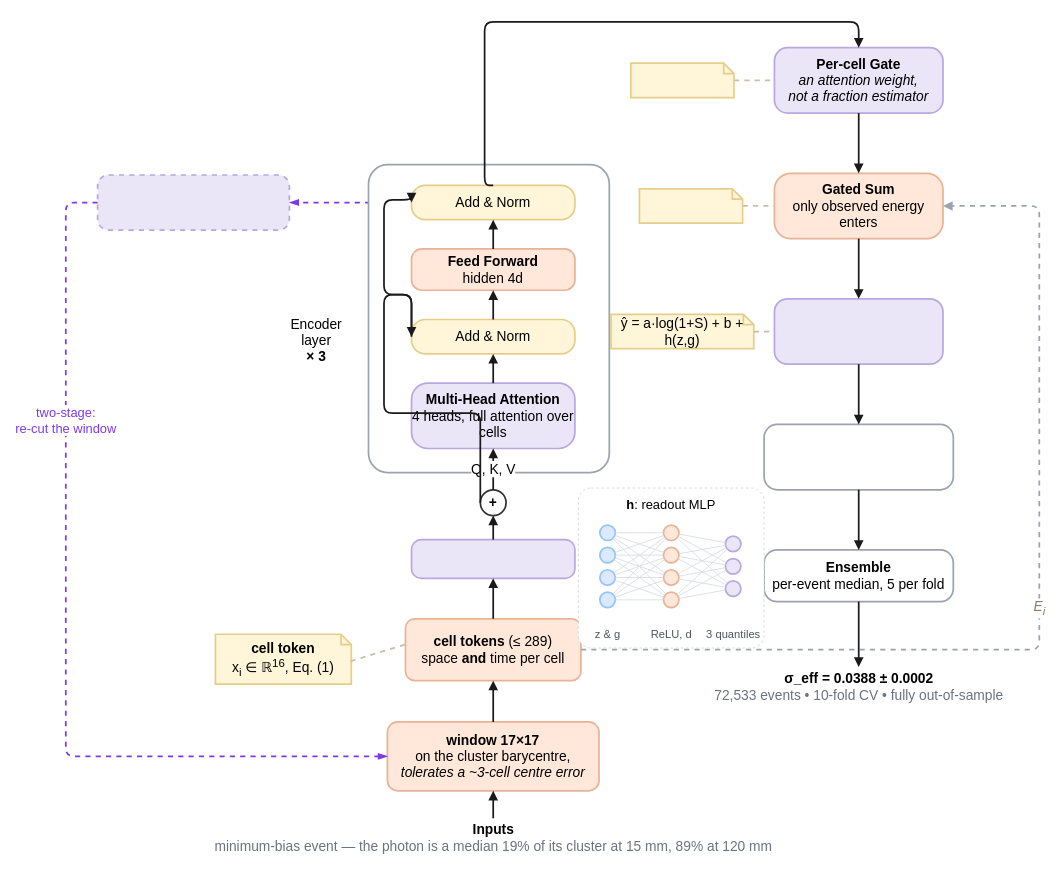
This 1061x871 diagram has some shape labels left out. The shapes that lost their labels are listed below. From the top down, each one's centre as x and y in pixels, then its label:
At (682,80): "σ(f i ) ∈ (0, 1)".
At (193,202): "position head (auxiliary) photon offset, 0.16 cells".
At (690,205): "S = Σ i σ(f i )·E i".
At (858,331): "Readout h: small MLP on the pooled state and 6 globals g".
At (858,456): "Calibration affine per width tercile, fit on validation only".
At (492,558): "Linear Embedding d = 128".
